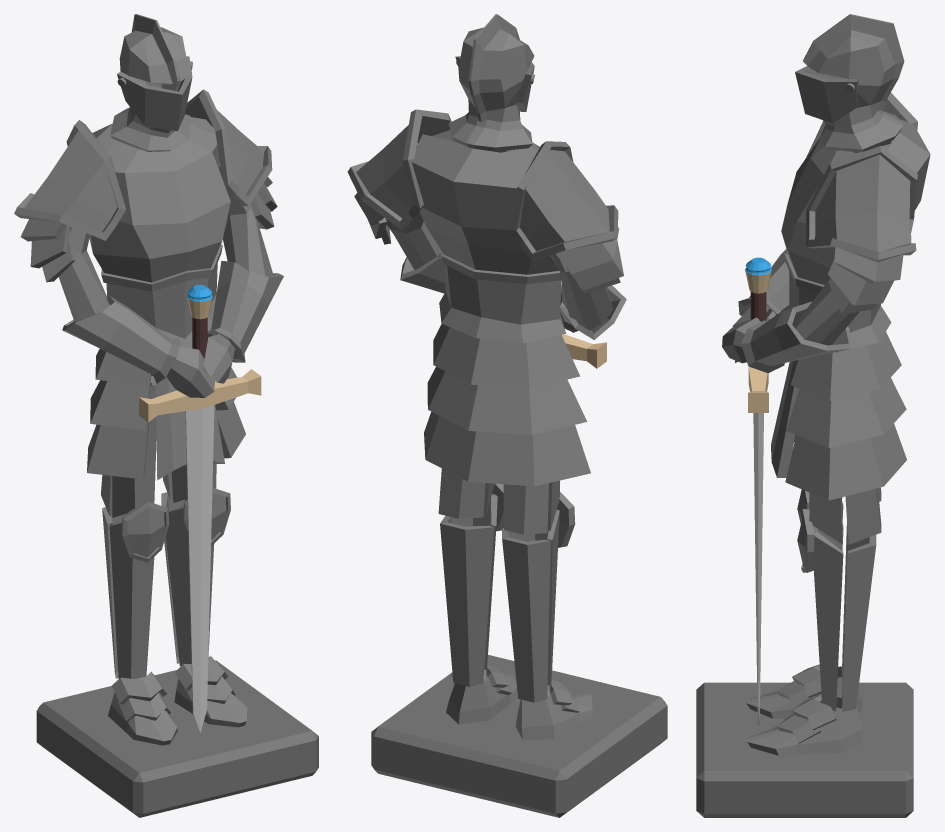
The model's file is Knight_Sword_Mage_Helmet1 Texture.fbx.
The picture shows the model from 3 angles, left to right: view 1: azimuth 30°, elevation 25°; view 2: azimuth 150°, elevation 25°; view 3: azimuth 270°, elevation 25°; orthographic projection. The views are drawn at different scales.
Parts seen in each view (by area): view 1: polySurface27; view 2: polySurface27; view 3: polySurface27.
Part boxes in pixels (x1,y1,x2,y2): polySurface27: (14, 14, 318, 817); polySurface27: (347, 14, 667, 817); polySurface27: (696, 14, 930, 817).
Bounding box in the file's own units: 195 × 526 × 147.
